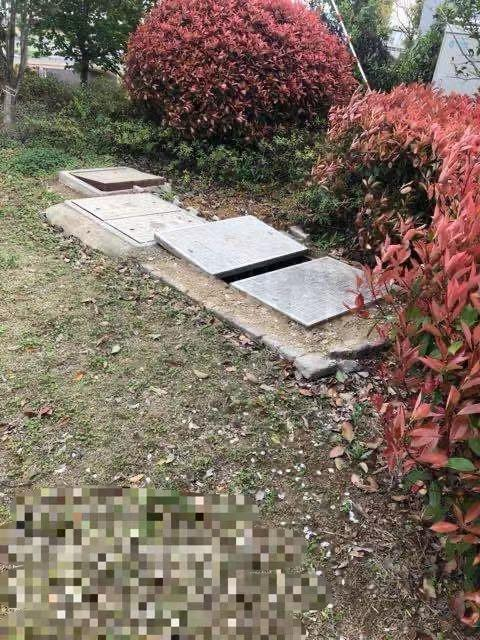wellcover: (154, 208, 394, 344), (56, 188, 206, 257), (56, 151, 176, 197)
